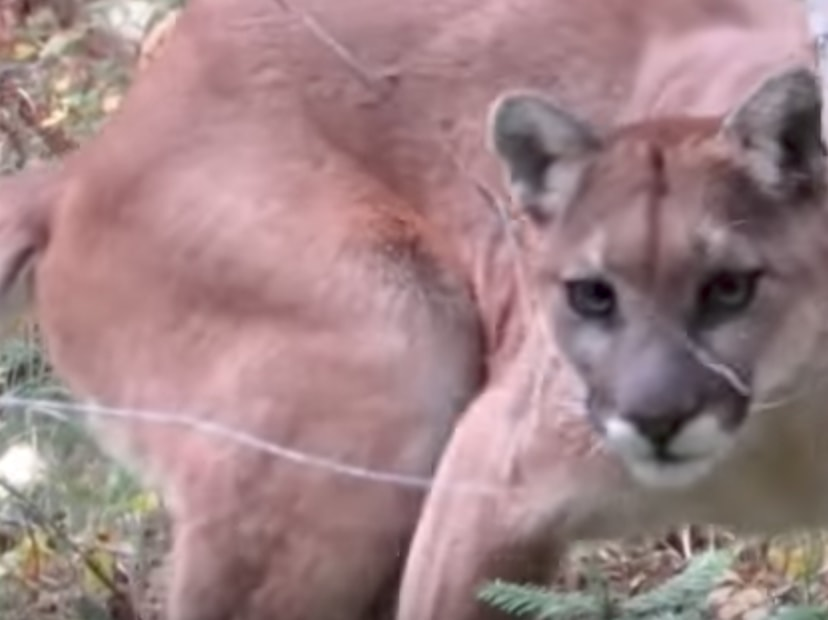Mountain Lion: (17, 2, 823, 611)
